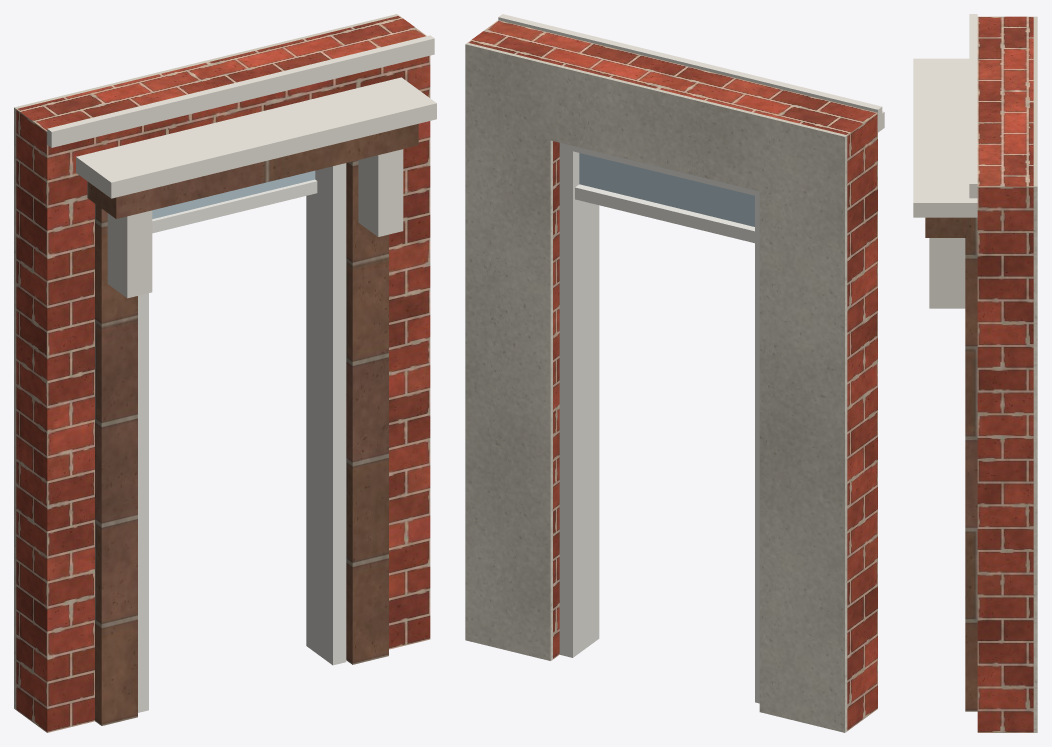
Rendered from wall_brick_entry.glb.
The picture shows the model from 3 angles, left to right: view 1: azimuth 30°, elevation 25°; view 2: azimuth 150°, elevation 25°; view 3: azimuth 270°, elevation 25°; orthographic projection. The views are drawn at different scales.
Visible parts, largest first — view 1: wall_brick_entry_brick, wall_brick_entry_stone, wall_brick_entry_trim, wall_brick_entry_frame, wall_brick_entry_plaster, wall_brick_entry_glass; view 2: wall_brick_entry_plaster, wall_brick_entry_brick, wall_brick_entry_frame, wall_brick_entry_glass, wall_brick_entry_trim; view 3: wall_brick_entry_brick, wall_brick_entry_trim, wall_brick_entry_stone, wall_brick_entry_plaster.
Boxes of the visible parts, <box> form: wall_brick_entry_brick: <box>16,15,430,732</box>; wall_brick_entry_stone: <box>87,124,418,725</box>; wall_brick_entry_trim: <box>47,35,436,298</box>; wall_brick_entry_frame: <box>138,163,346,712</box>; wall_brick_entry_plaster: <box>14,14,398,709</box>; wall_brick_entry_glass: <box>152,170,315,218</box>; wall_brick_entry_plaster: <box>465,42,847,732</box>; wall_brick_entry_brick: <box>468,20,877,730</box>; wall_brick_entry_frame: <box>559,143,759,703</box>; wall_brick_entry_glass: <box>579,153,754,226</box>; wall_brick_entry_trim: <box>498,14,884,132</box>; wall_brick_entry_brick: <box>977,16,1033,732</box>; wall_brick_entry_trim: <box>913,14,977,308</box>; wall_brick_entry_stone: <box>925,217,977,711</box>; wall_brick_entry_plaster: <box>1033,16,1037,732</box>.
Bounding box in the file's own units: 2 × 3.02 × 0.62.
6 materials, 3 textured.
